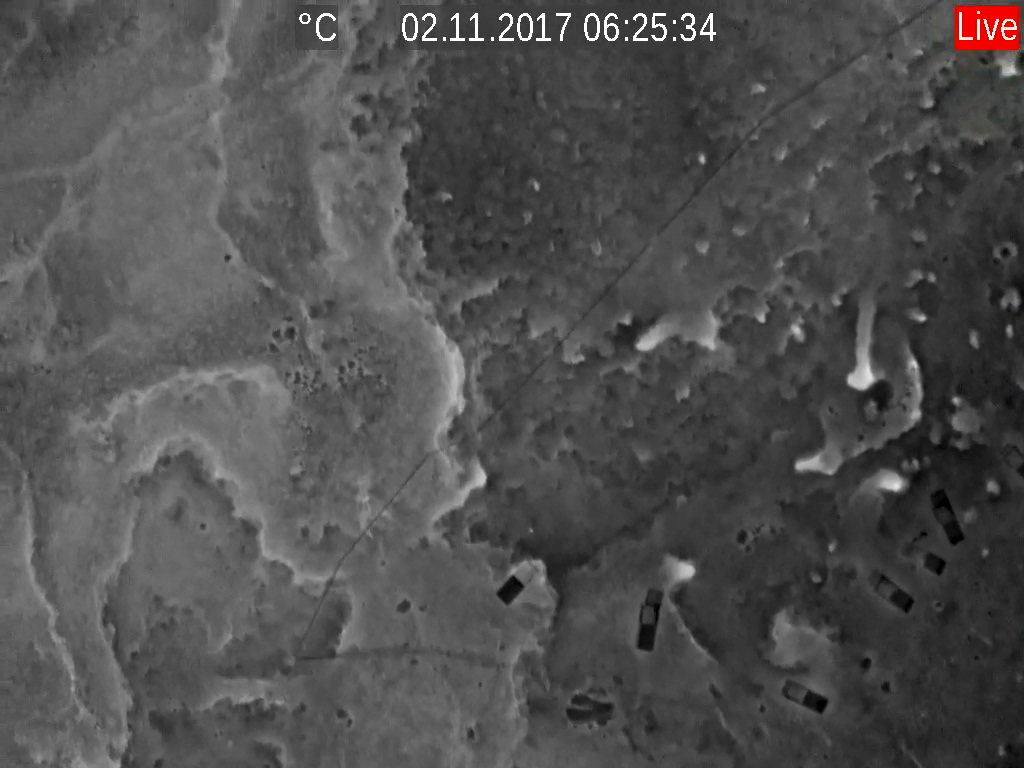warren: (633, 308, 722, 360), (842, 290, 883, 396), (786, 439, 842, 477), (868, 458, 913, 499), (659, 549, 703, 589), (904, 301, 936, 327), (963, 327, 984, 349)
